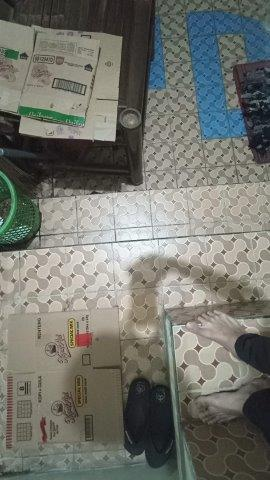kardus: (7, 309, 123, 448), (1, 21, 121, 140)
